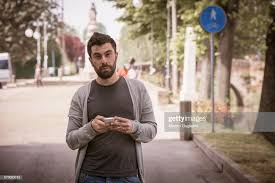white_male: (84, 36, 134, 86)
